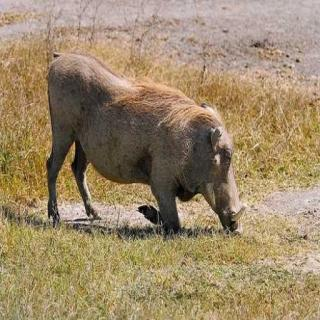Pig: (50, 40, 258, 250)
